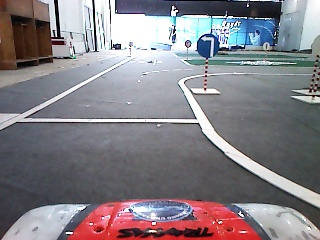turn_left: (197, 34, 220, 58)
